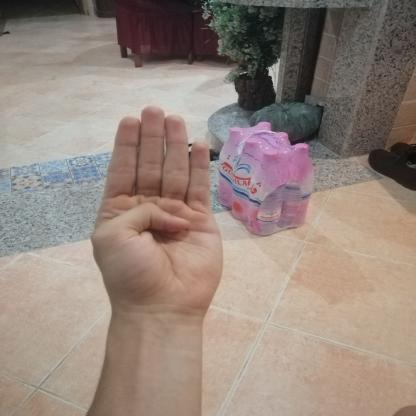KAAF: (67, 92, 250, 330)
